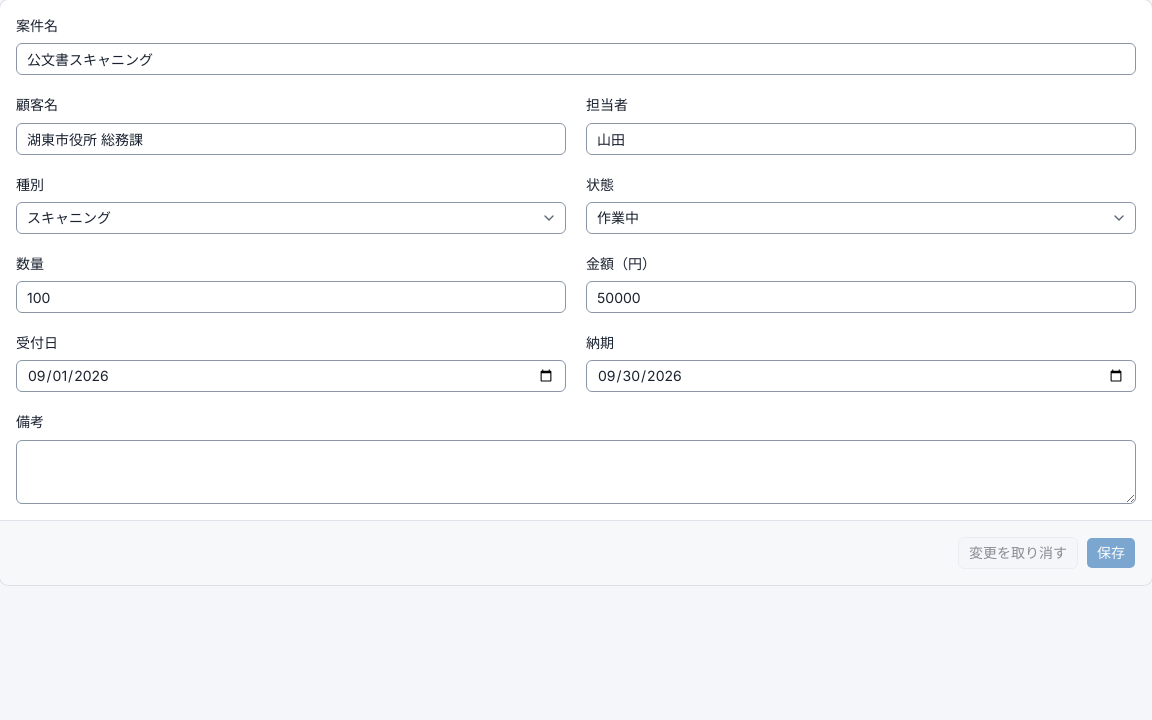
Scenario: OrderEditForm › 変更すると保存でき、保存後は再び未変更扱いになる
Replace the text in the field labelled "案件名" with "公文書スキャニング（追加分）" at (576, 59), box [16,43,1136,75]
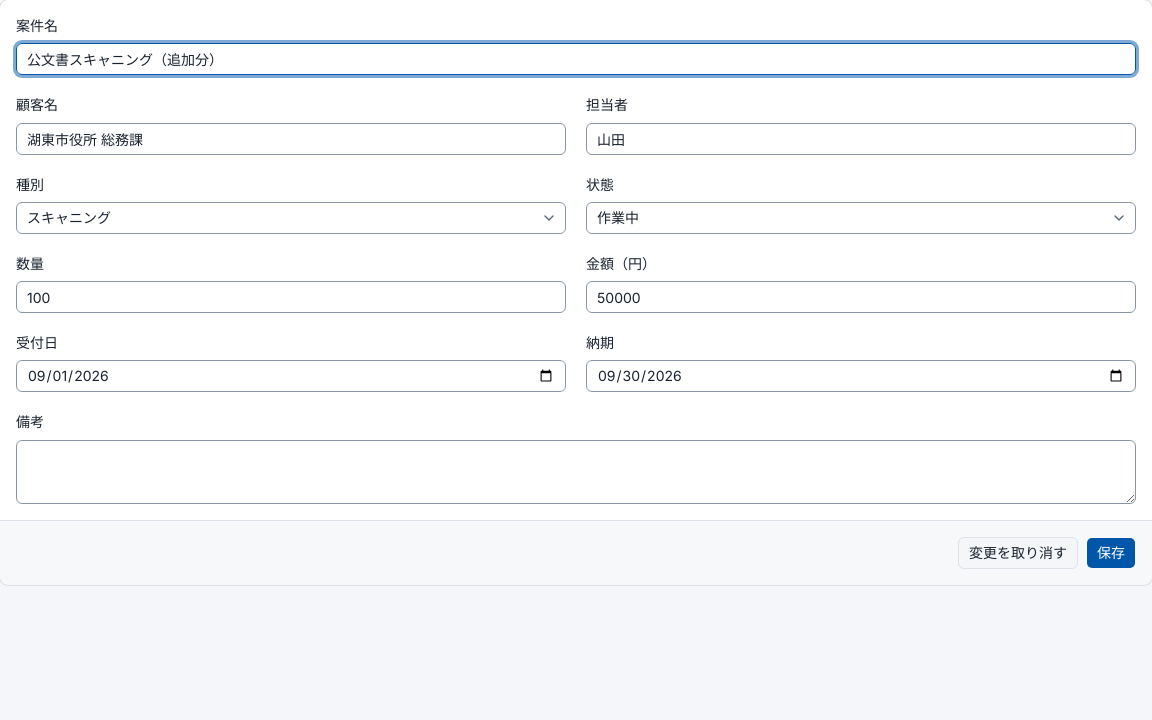
Click the button "保存" at (1111, 552), box [1086,536,1136,568]
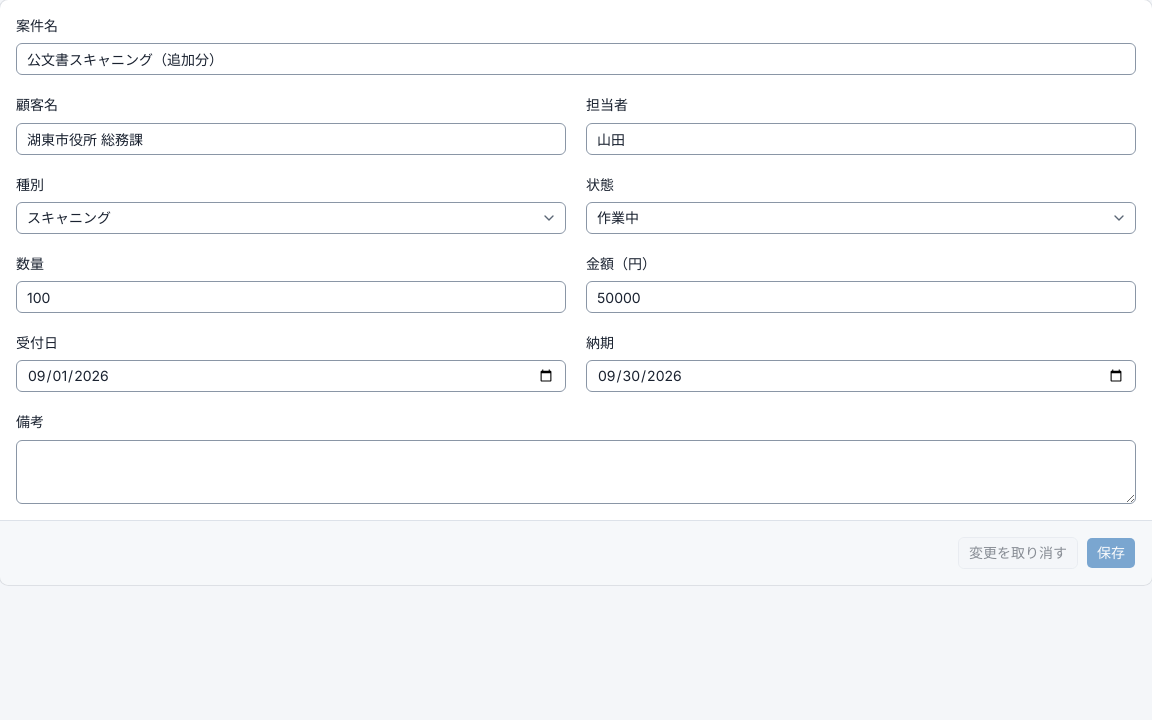
Now the button "保存" is disabled, box [1086,536,1136,568]
